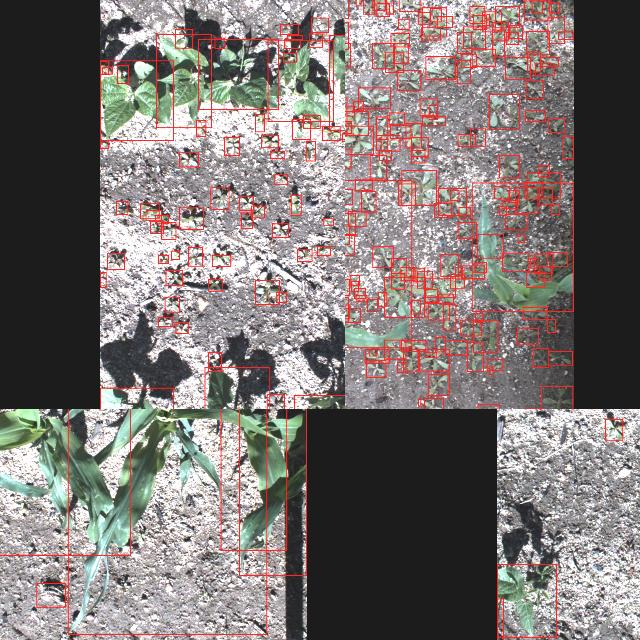crop: (67, 409, 266, 634), (0, 409, 129, 554), (472, 182, 572, 310), (238, 409, 305, 574), (345, 179, 411, 346), (220, 409, 286, 549), (100, 60, 172, 140), (198, 39, 278, 109), (267, 40, 333, 120), (156, 33, 210, 127), (496, 564, 556, 636), (204, 366, 269, 409), (99, 387, 173, 409), (329, 34, 345, 129), (99, 60, 107, 74)
weed: (384, 277, 424, 317), (402, 170, 436, 204), (489, 94, 519, 128), (472, 320, 498, 352), (528, 172, 560, 198), (438, 188, 466, 215), (345, 125, 372, 153), (541, 386, 573, 409), (422, 7, 446, 35), (36, 582, 64, 606), (425, 56, 455, 78), (358, 87, 390, 107), (477, 233, 503, 257), (419, 350, 449, 370), (425, 277, 455, 297), (255, 280, 279, 304), (515, 187, 537, 213), (505, 57, 531, 79), (372, 42, 394, 68), (345, 111, 368, 135), (526, 31, 550, 54), (524, 1, 552, 20), (495, 6, 519, 27), (463, 26, 485, 48), (179, 208, 203, 228), (467, 341, 483, 371), (499, 154, 519, 178), (502, 252, 528, 270), (428, 373, 448, 395), (398, 70, 420, 90), (383, 339, 405, 358), (405, 122, 421, 148), (548, 17, 564, 43), (471, 49, 495, 66), (372, 246, 392, 266), (210, 187, 228, 209), (440, 254, 458, 276), (369, 154, 385, 178), (482, 11, 501, 31), (522, 306, 548, 320), (292, 119, 310, 139), (174, 28, 192, 48), (428, 302, 448, 320), (410, 136, 428, 156), (385, 52, 403, 72), (604, 419, 622, 439), (402, 349, 418, 371), (516, 327, 538, 343), (398, 183, 414, 205), (365, 359, 385, 376), (364, 349, 388, 363), (548, 350, 572, 364), (461, 319, 482, 335), (534, 254, 552, 272), (525, 80, 543, 98), (506, 213, 526, 229), (360, 191, 376, 211), (456, 32, 472, 52), (392, 43, 408, 63), (443, 304, 455, 330), (456, 59, 469, 83), (492, 29, 504, 55), (445, 340, 467, 354), (462, 264, 484, 278), (533, 348, 549, 367), (458, 222, 477, 238), (106, 253, 124, 269), (347, 210, 365, 226), (524, 181, 542, 197), (434, 202, 452, 218), (381, 134, 399, 150), (419, 98, 437, 114), (492, 21, 508, 39), (178, 152, 198, 166), (224, 136, 238, 156), (547, 252, 567, 266), (390, 124, 410, 138), (266, 393, 283, 409), (188, 247, 202, 266), (389, 32, 408, 46), (400, 340, 426, 350), (160, 222, 176, 238), (416, 271, 432, 287), (140, 204, 158, 218), (164, 270, 182, 284), (322, 126, 340, 140), (310, 18, 328, 32), (302, 114, 320, 128), (392, 258, 406, 276), (526, 272, 544, 286), (470, 128, 484, 146), (496, 598, 502, 640), (398, 0, 420, 11), (116, 64, 128, 84), (534, 63, 554, 75), (528, 51, 540, 71), (420, 27, 440, 39), (470, 5, 484, 22), (376, 115, 386, 138), (208, 352, 220, 371), (423, 397, 442, 409), (345, 306, 360, 321), (164, 296, 178, 312), (272, 223, 288, 237), (548, 118, 564, 132), (460, 53, 476, 67), (345, 213, 355, 235), (563, 136, 573, 158), (212, 254, 230, 266), (260, 135, 278, 147), (457, 134, 475, 146), (391, 272, 404, 288), (540, 188, 552, 205), (290, 194, 300, 214), (305, 140, 315, 160), (525, 110, 545, 120), (239, 196, 253, 210), (424, 288, 438, 302), (400, 266, 414, 280), (450, 274, 464, 288), (472, 15, 486, 29), (240, 212, 252, 228), (296, 249, 312, 261), (494, 186, 510, 198), (388, 112, 404, 124), (376, 2, 389, 16), (280, 24, 298, 34), (354, 179, 372, 189), (540, 56, 558, 66), (487, 358, 503, 369), (422, 116, 444, 124), (436, 16, 452, 27), (207, 279, 221, 291), (250, 205, 264, 217), (308, 34, 322, 46), (345, 233, 353, 254), (412, 267, 424, 281), (539, 266, 551, 280), (411, 150, 425, 162), (510, 24, 522, 38), (195, 120, 205, 136), (254, 114, 264, 130), (284, 38, 300, 48), (435, 336, 445, 352), (438, 293, 454, 303), (376, 134, 386, 150), (150, 221, 162, 233), (538, 164, 550, 176), (417, 11, 429, 23), (506, 32, 518, 44), (115, 200, 126, 213), (362, 0, 373, 13), (158, 316, 172, 326), (146, 210, 160, 220), (274, 173, 288, 183), (282, 52, 296, 62), (410, 299, 420, 313), (428, 104, 438, 118), (430, 8, 440, 22), (458, 206, 469, 218), (531, 0, 542, 12), (316, 245, 329, 255), (371, 0, 384, 10), (558, 31, 574, 39), (154, 214, 168, 223), (477, 403, 498, 409), (175, 322, 187, 332), (367, 299, 377, 311), (474, 262, 486, 272), (509, 190, 519, 202), (379, 150, 391, 160), (398, 18, 408, 30), (345, 42, 350, 66), (270, 150, 284, 158), (547, 318, 555, 332), (378, 292, 386, 306), (502, 200, 516, 208), (385, 0, 393, 13), (276, 292, 286, 302), (214, 37, 224, 47), (396, 361, 406, 371), (354, 288, 364, 298), (349, 274, 359, 284), (550, 204, 560, 214), (353, 100, 363, 110), (549, 2, 559, 12), (449, 190, 458, 200), (345, 188, 351, 203), (345, 149, 350, 167), (99, 272, 105, 286), (157, 255, 167, 263), (475, 312, 483, 322), (350, 280, 358, 290), (530, 258, 538, 268), (345, 105, 353, 115), (455, 266, 461, 278), (345, 121, 351, 133), (482, 13, 488, 24), (171, 250, 179, 258), (100, 140, 108, 148), (286, 35, 302, 39), (368, 348, 376, 356), (323, 218, 333, 224), (102, 67, 112, 73), (356, 295, 366, 301), (345, 304, 349, 318), (499, 206, 506, 214), (518, 234, 524, 242), (426, 352, 436, 356), (341, 133, 345, 141), (488, 366, 492, 374), (355, 0, 360, 5), (418, 398, 420, 406)
